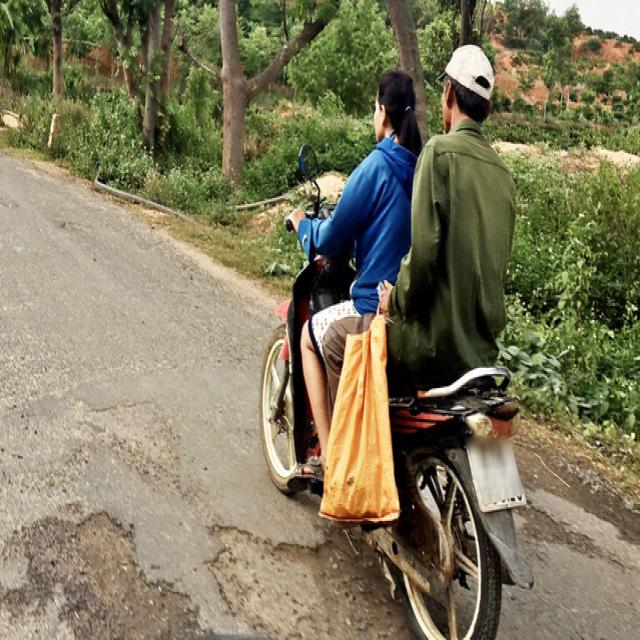no_helmet: (362, 58, 427, 154)
